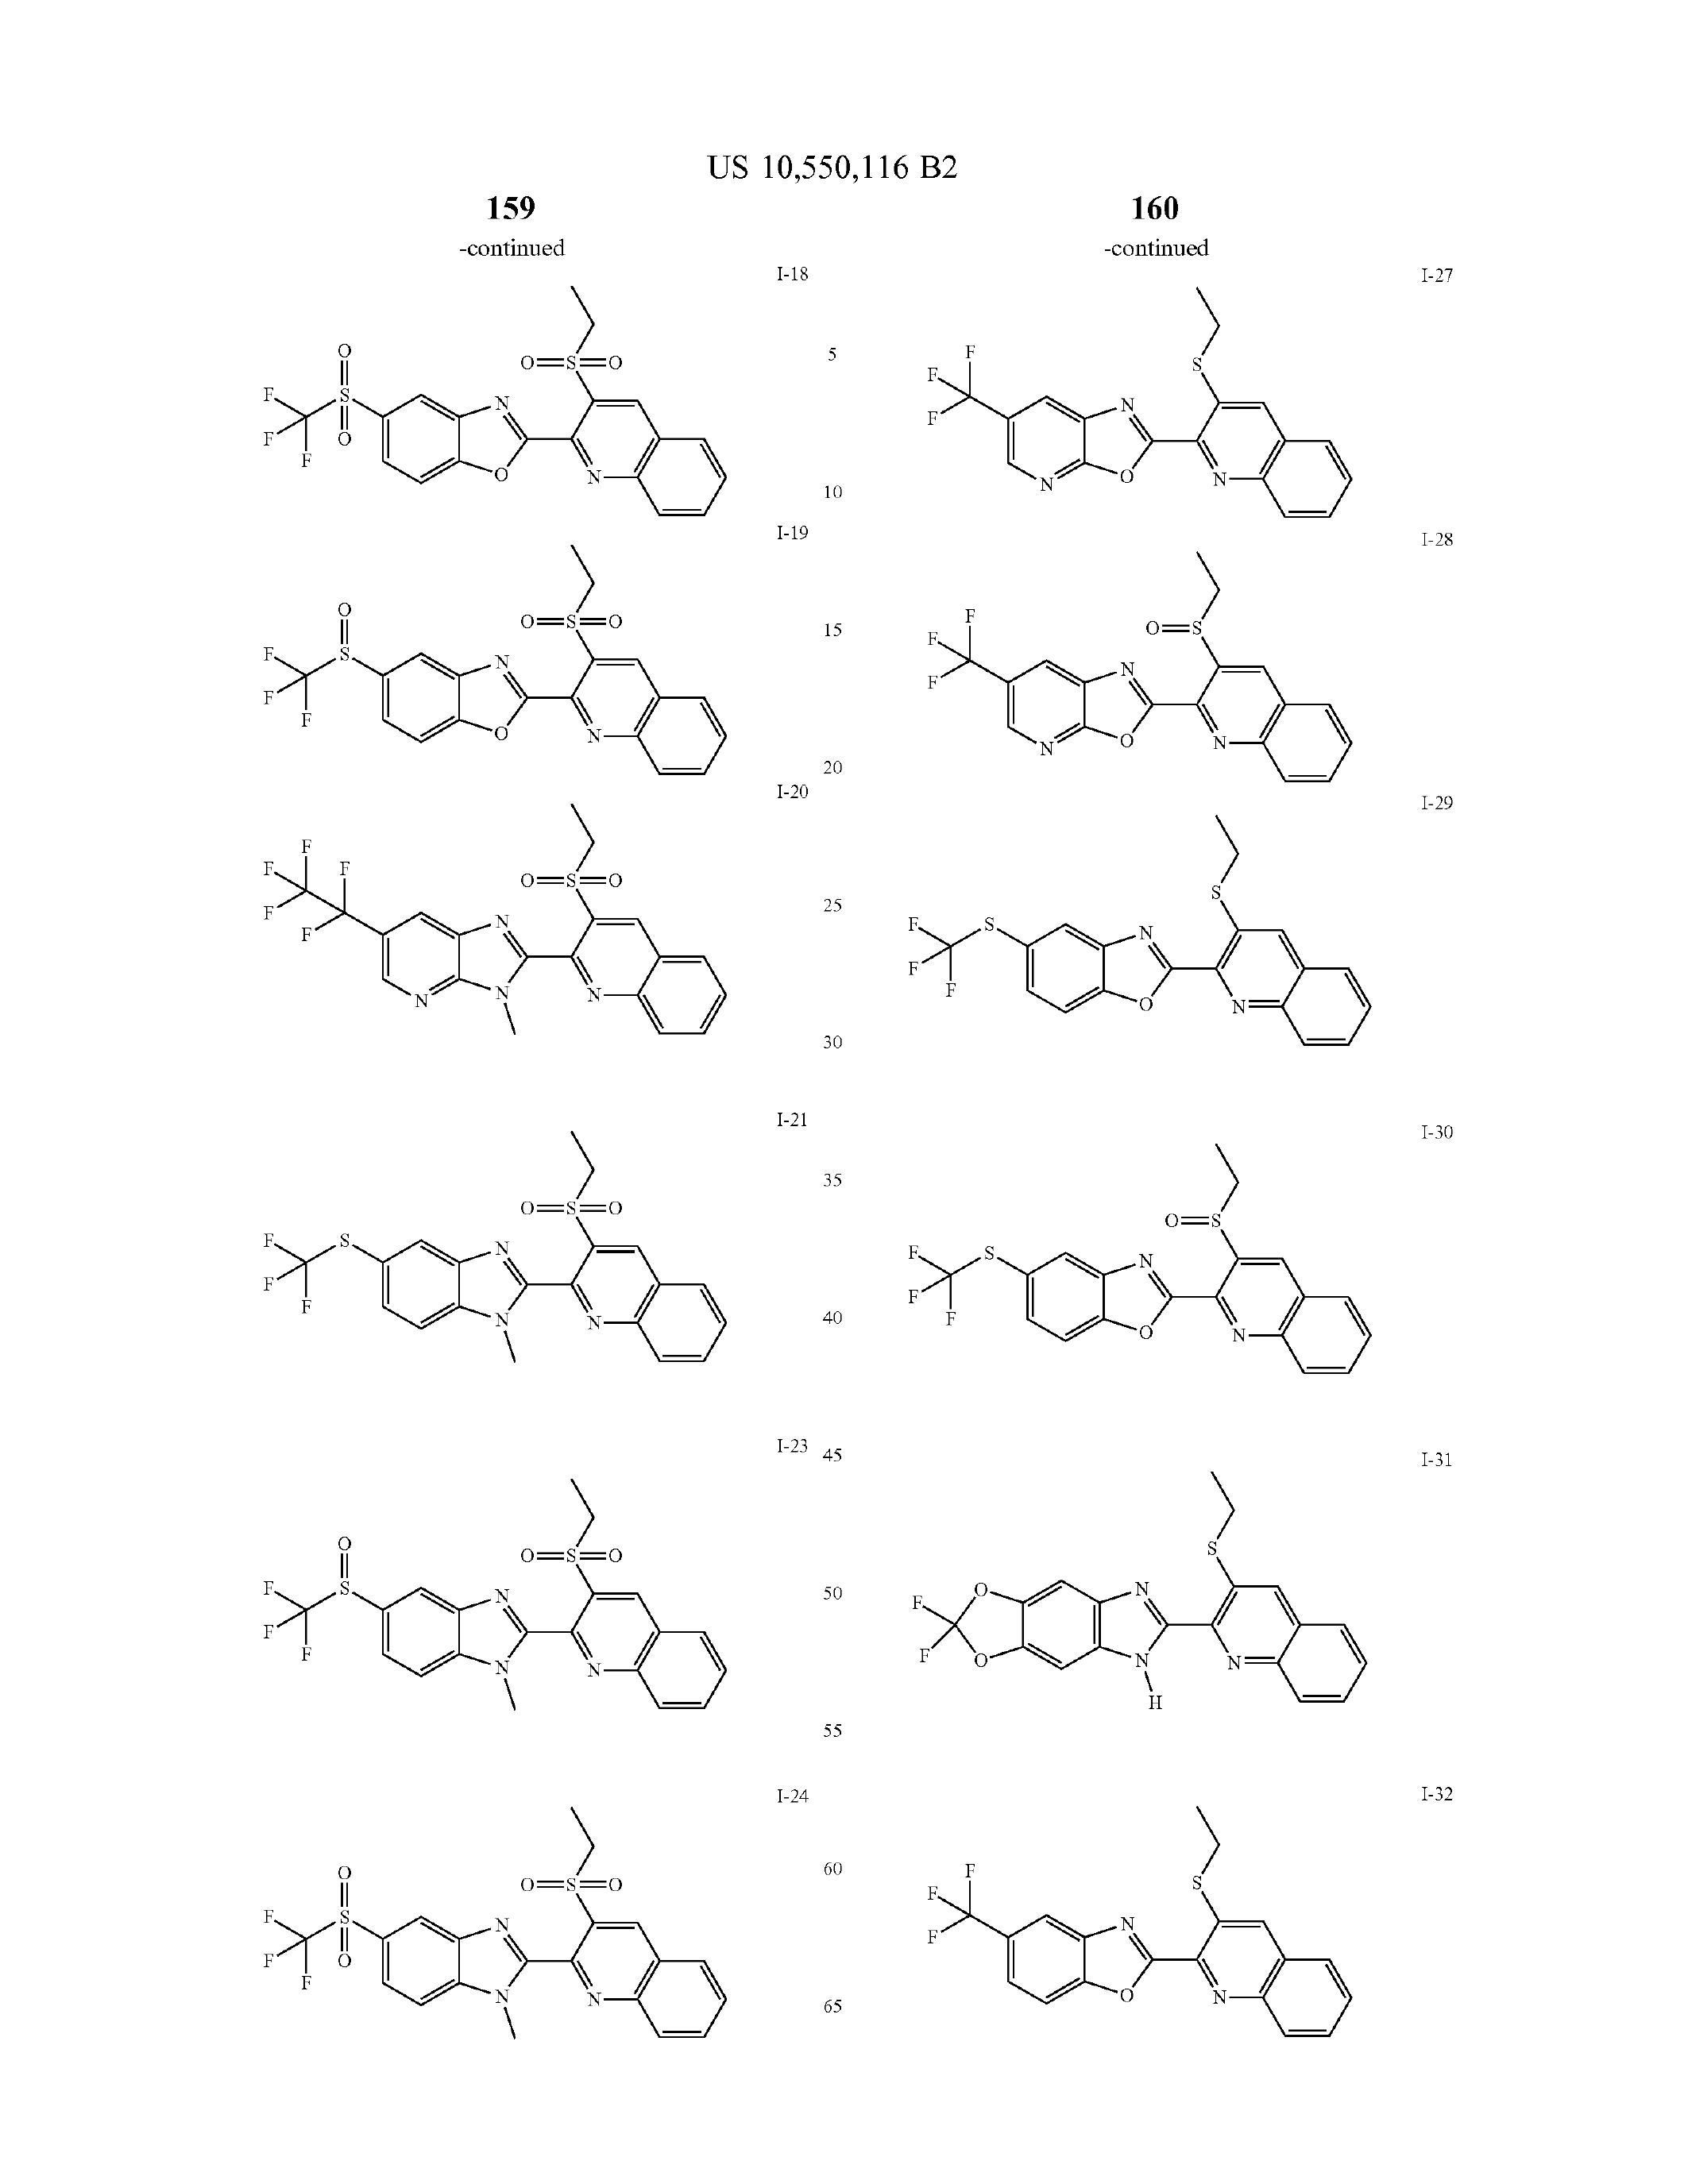relevant-structures: (188, 1127, 761, 1420), (207, 801, 761, 1103), (878, 1138, 1397, 1441), (218, 1473, 745, 1764), (887, 1814, 1403, 2108), (207, 525, 734, 805), (878, 277, 1450, 534), (878, 1471, 1403, 1751), (229, 1817, 750, 2090), (892, 534, 1383, 812), (878, 830, 1408, 1085), (207, 271, 736, 521)
